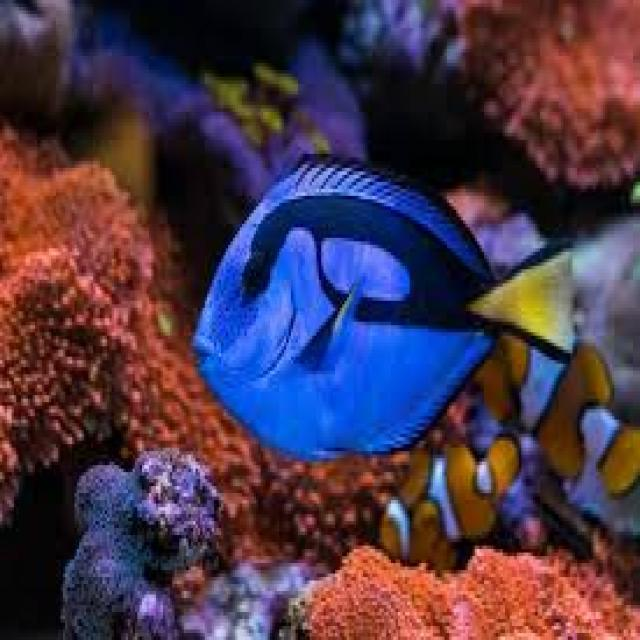BlueTang: (184, 124, 587, 493)
